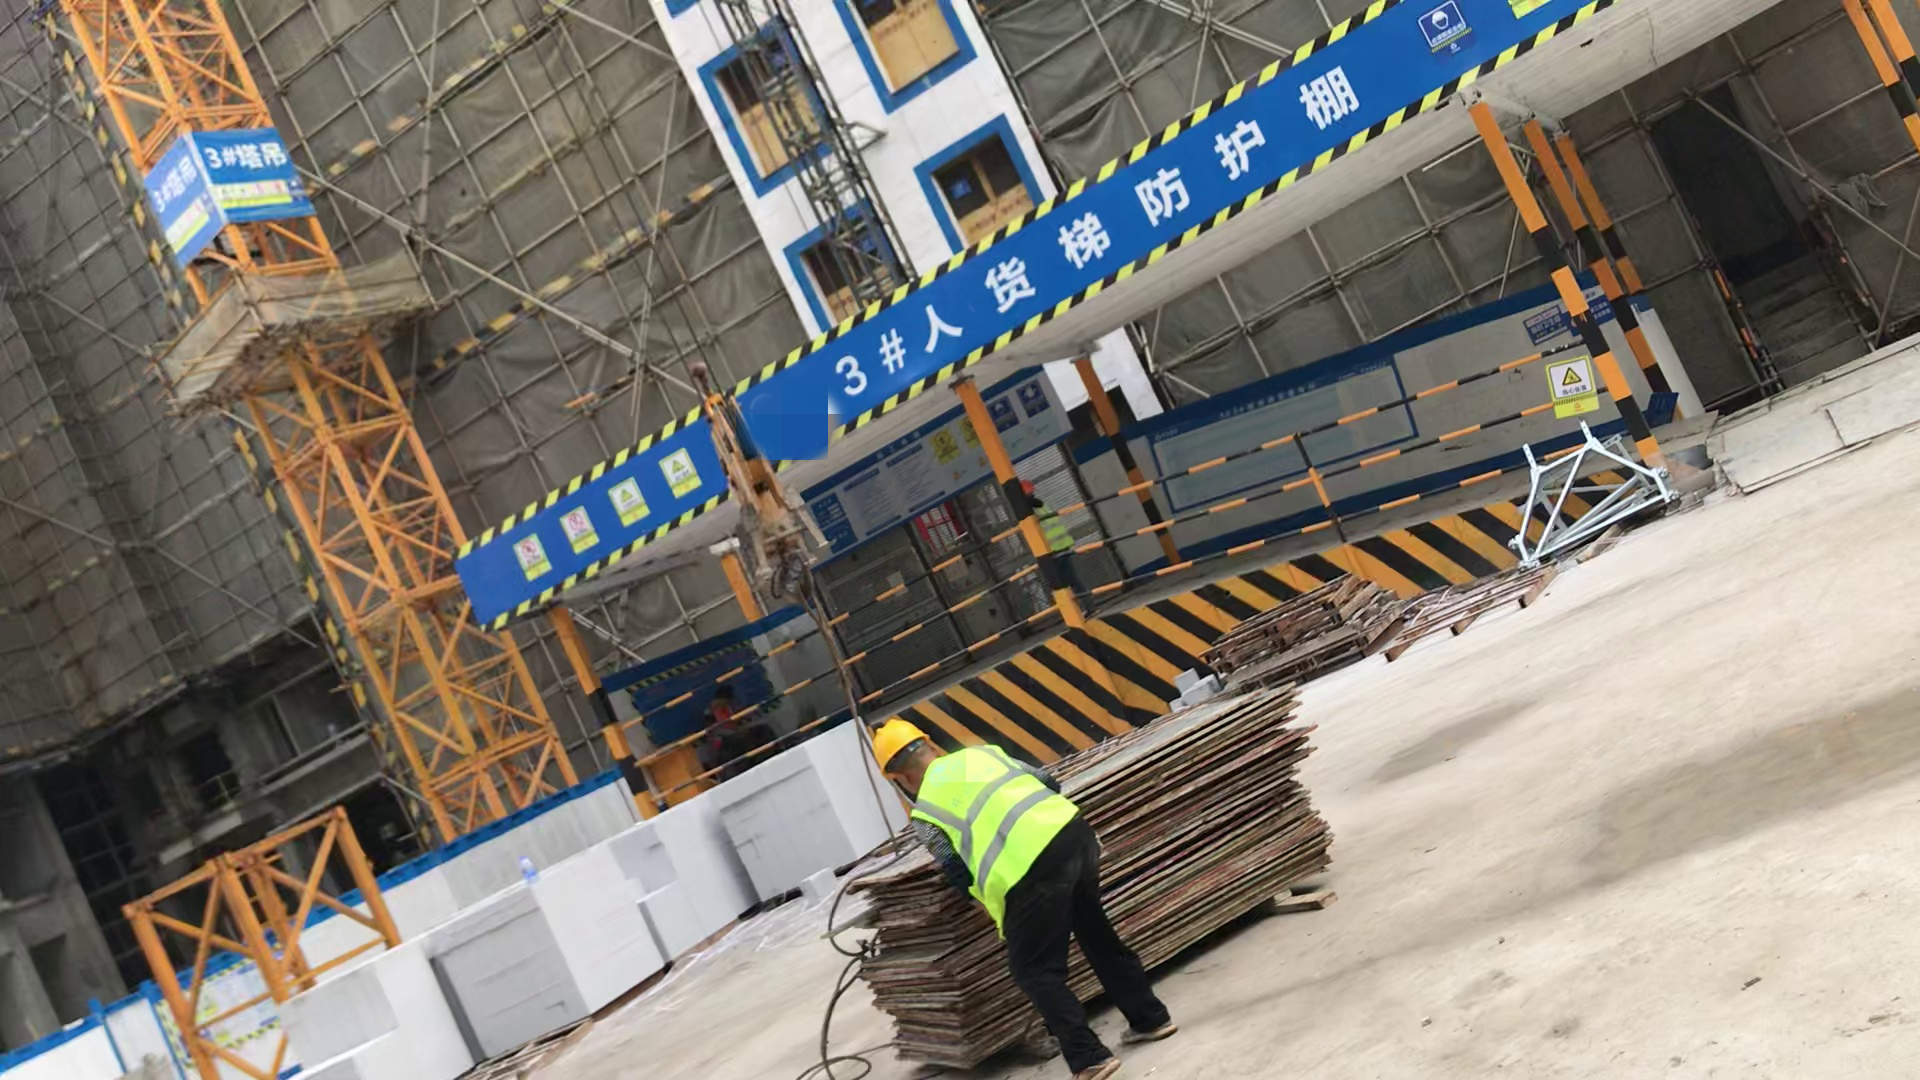board: (865, 673, 1314, 1035)
brick: (431, 845, 636, 1041), (275, 951, 474, 1072), (726, 725, 849, 887), (619, 809, 749, 954)
ebox: (643, 752, 705, 807)
helmet: (873, 717, 925, 777), (1019, 476, 1032, 498)
person: (867, 715, 1171, 1064), (1017, 473, 1097, 615), (704, 678, 766, 756)
slogan: (506, 447, 703, 583), (144, 127, 293, 262), (1406, 8, 1482, 58), (1549, 358, 1603, 427)
vest: (914, 740, 1077, 906), (1036, 505, 1074, 555), (709, 704, 735, 738)
